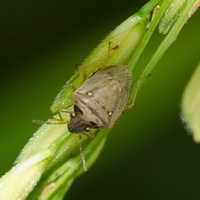insect: (67, 65, 131, 133)
